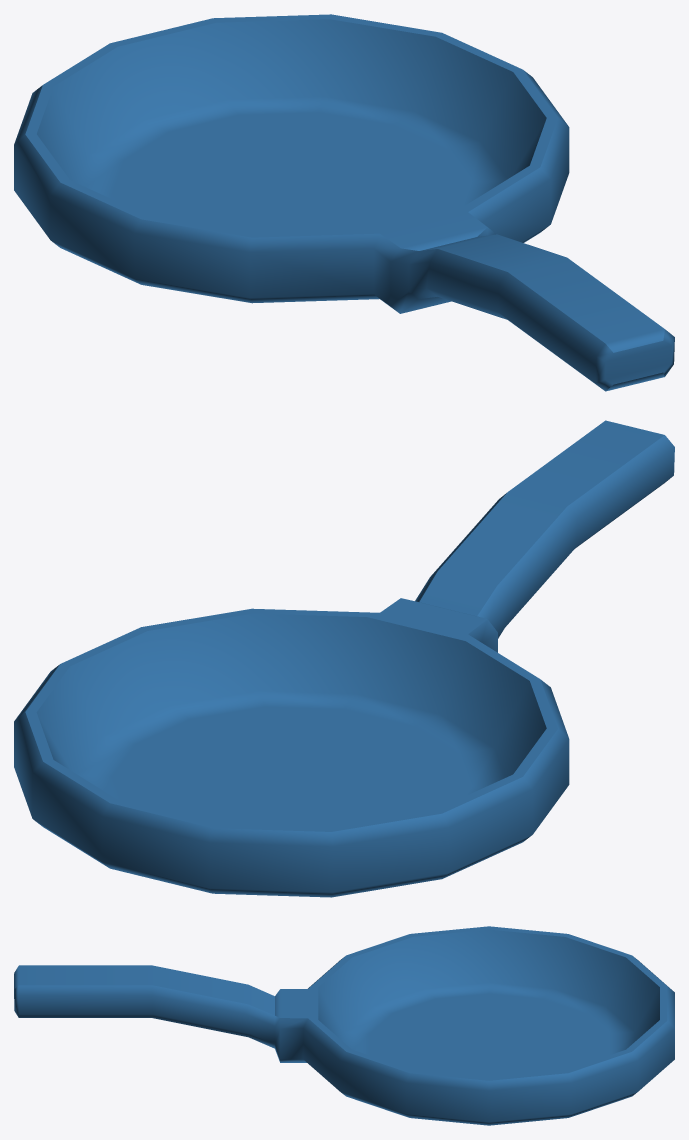
File: Sarten.fbx
The picture shows the model from 3 angles, top to bottom: view 1: azimuth 30°, elevation 25°; view 2: azimuth 150°, elevation 25°; view 3: azimuth 270°, elevation 25°; orthographic projection. The views are drawn at different scales.
Parts seen in each view (by area): view 1: pCylinder22; view 2: pCylinder22; view 3: pCylinder22.
Boxes of the visible parts, bbox=[...] form: pCylinder22: bbox=[14, 14, 674, 391]; pCylinder22: bbox=[14, 420, 674, 897]; pCylinder22: bbox=[14, 926, 674, 1125].
Size of the model in its own units: 0.3409 by 0.0781 by 0.5911.
